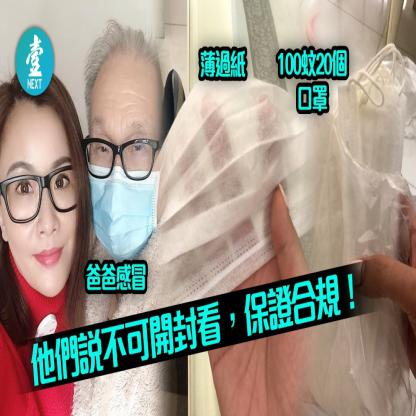Not_Wearing_Mask: (3, 152, 77, 297)
Wearing_Mask: (83, 106, 158, 259)
